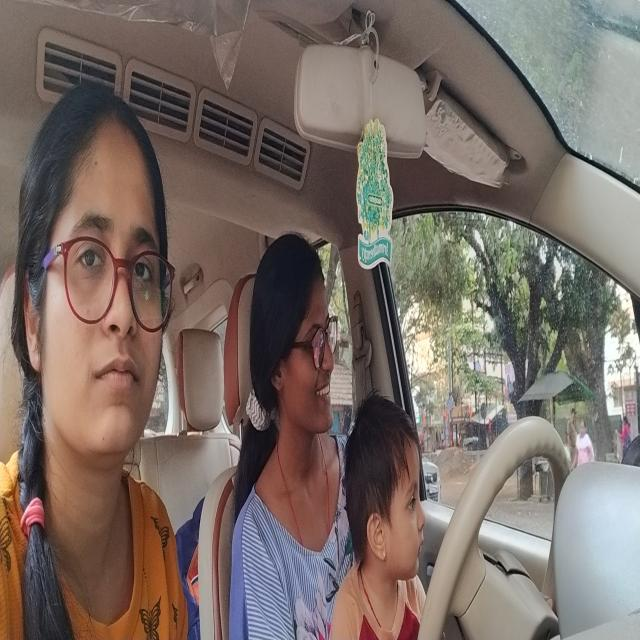child: (343, 395, 431, 589)
person: (14, 78, 180, 490), (242, 231, 341, 492)
